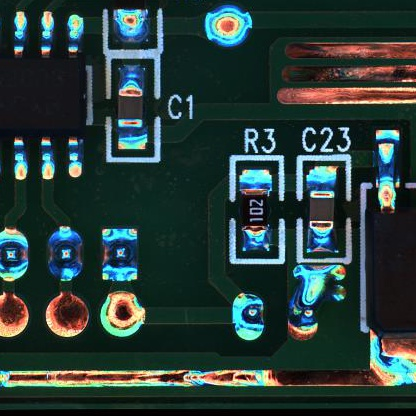spot: (98, 224, 139, 285), (203, 5, 254, 51), (47, 224, 83, 283), (231, 293, 266, 344), (1, 224, 28, 283)
